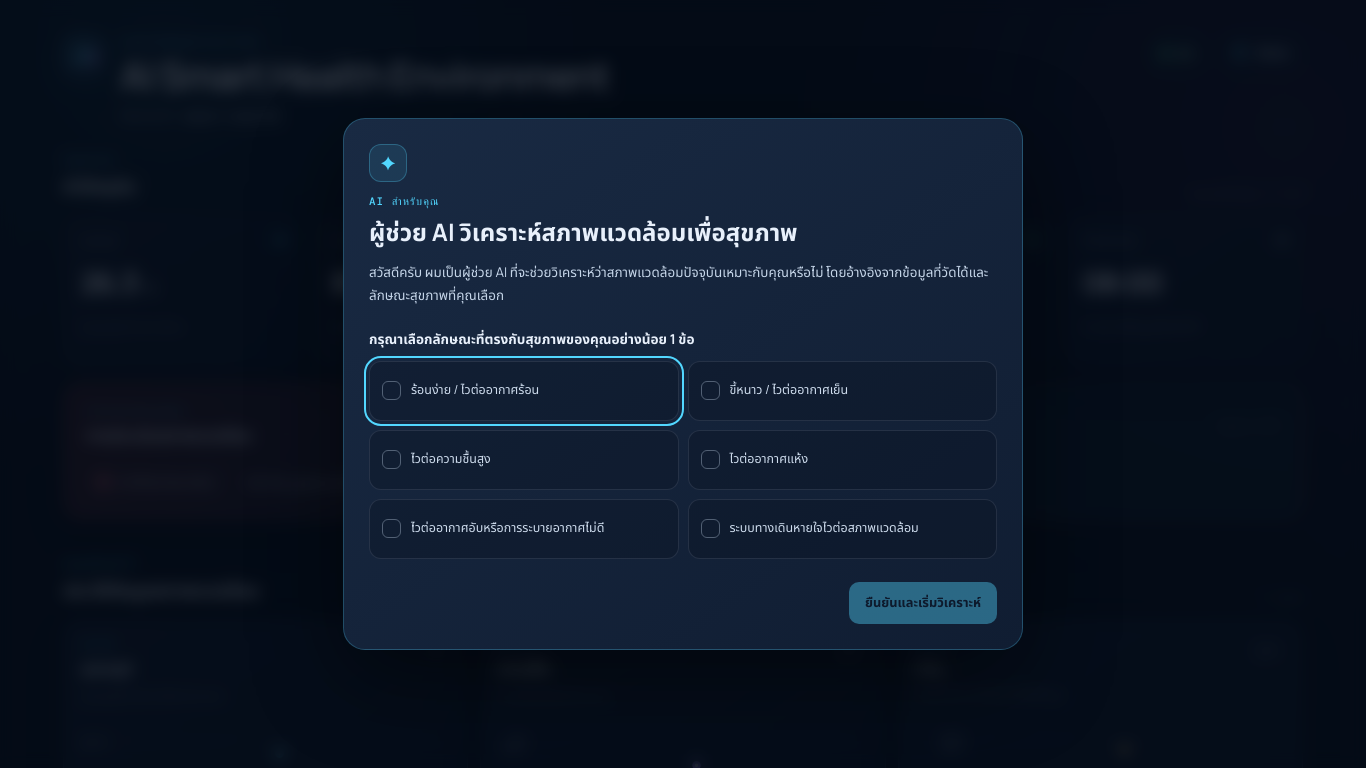
Test: AI environmental dashboard › keeps telemetry available and polling while AI is still loading
Click the button "ไวต่ออากาศอับหรือการระบายอากาศไม่ดี". click: [524, 529]
box: [369,499,678,559]
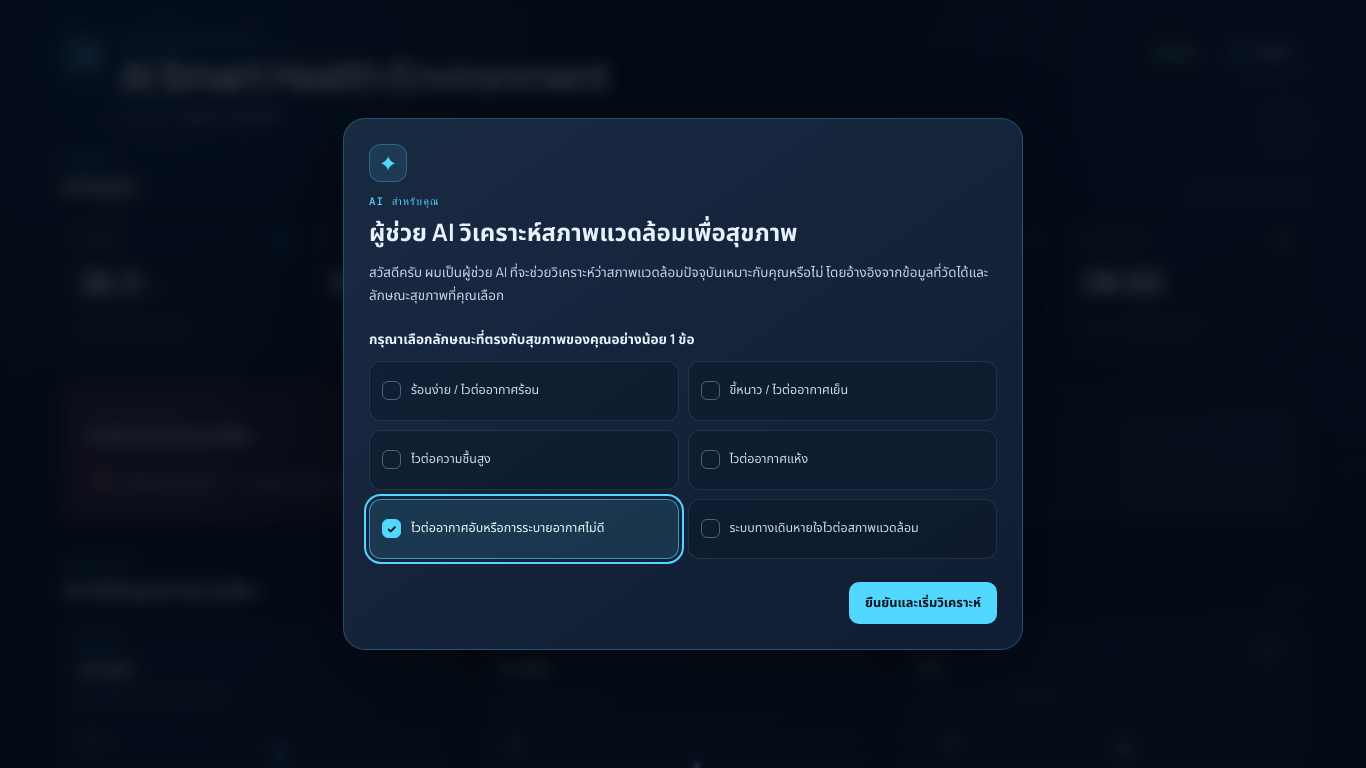
Click the button "ยืนยันและเริ่มวิเคราะห์". click: [923, 603]
box: [849,582,997,624]
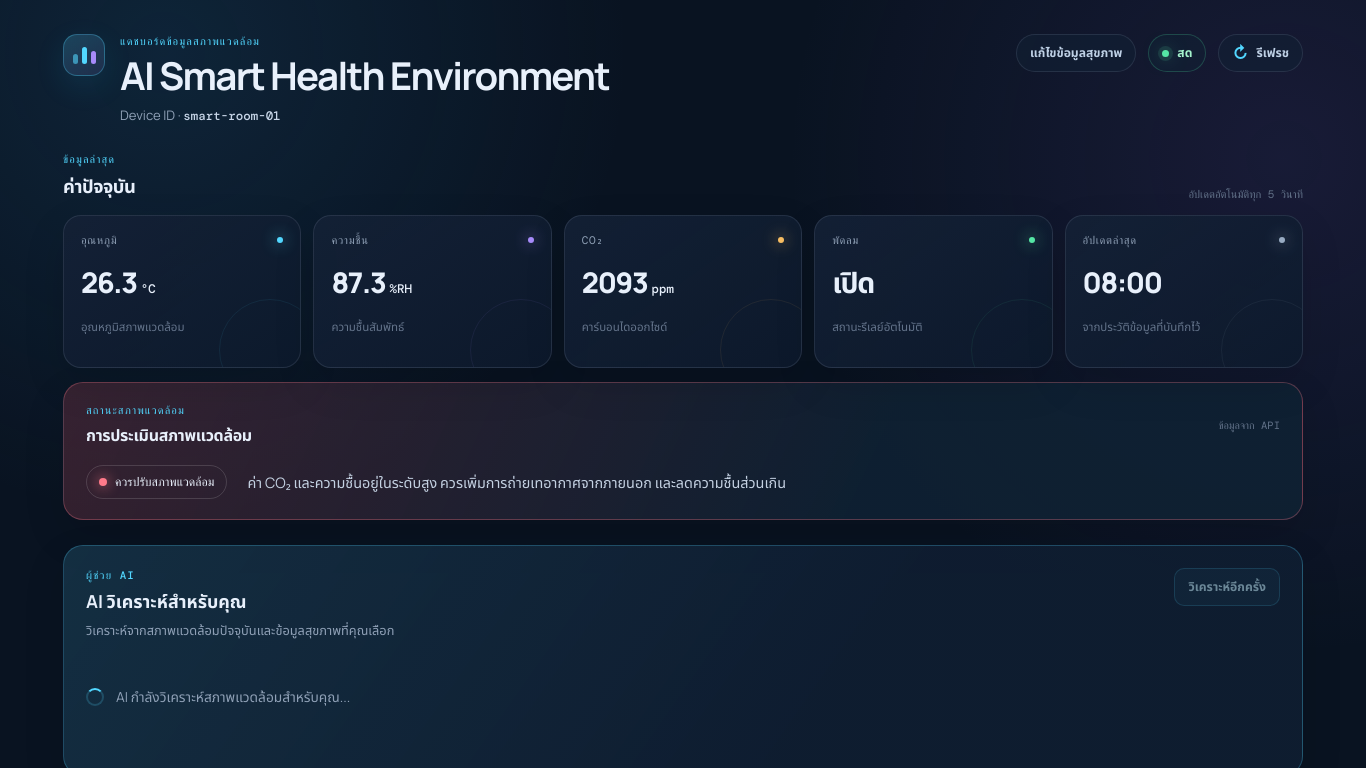
Expected: the heading "ค่าปัจจุบัน" is shown, [63,173,136,201]
Expected: the text "AI กำลังวิเคราะห์สภาพแวดล้อมสำหรับคุณ..." is shown, [116,687,350,708]
